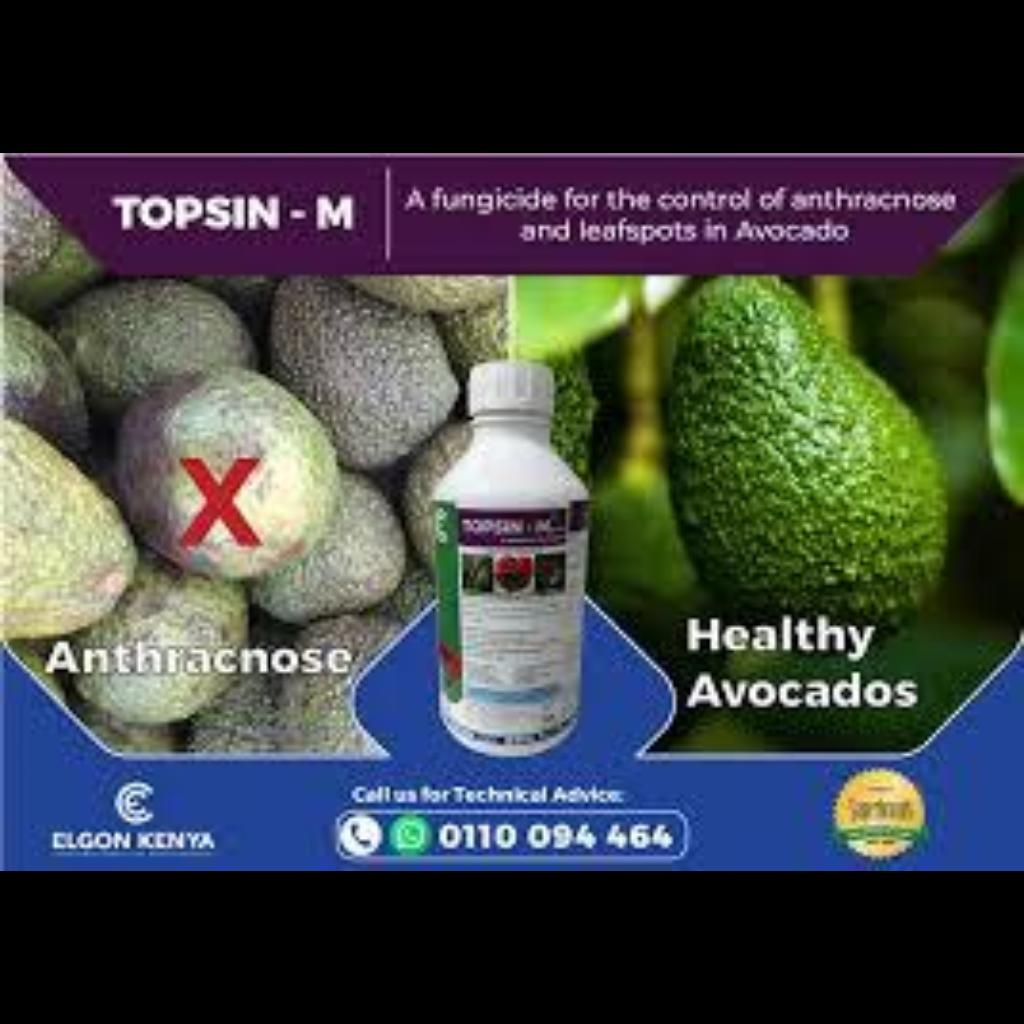Anthracnose: (82, 297, 452, 415), (260, 621, 362, 751)
